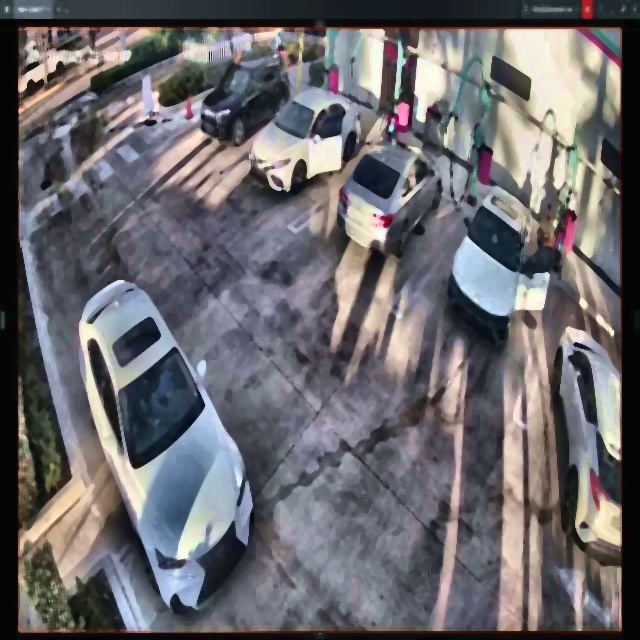Car: (78, 276, 256, 614), (448, 188, 551, 348), (338, 141, 443, 256), (251, 91, 360, 192), (201, 57, 291, 144)
